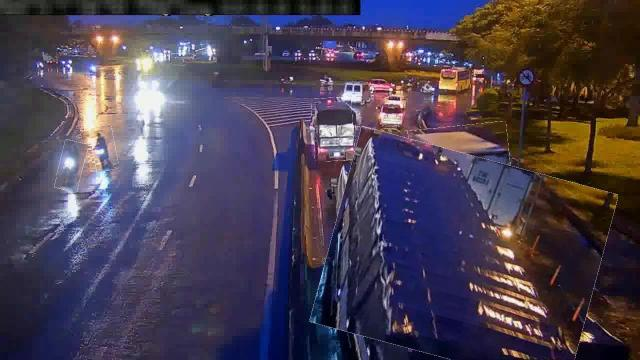Bike: (56, 141, 85, 192), (91, 125, 117, 171)
Truck: (320, 141, 608, 359), (411, 123, 514, 229), (312, 98, 354, 162)
